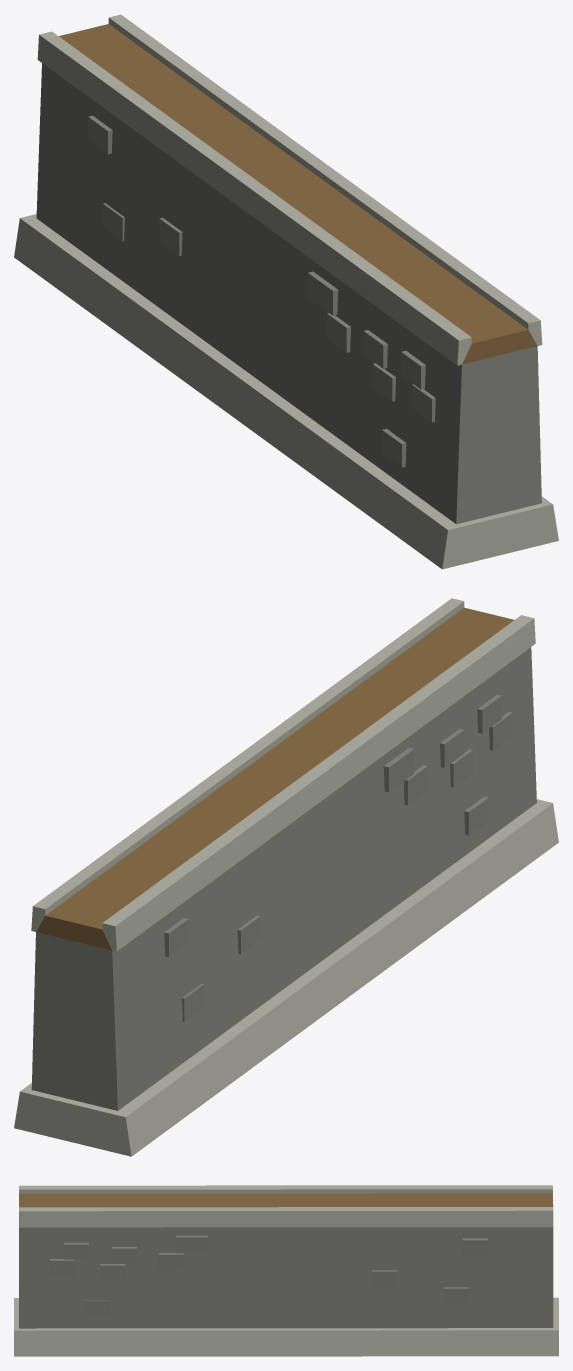
File: p6_lev2.glb
3 renders of one model, top to bottom at view 1: azimuth 30°, elevation 25°; view 2: azimuth 150°, elevation 25°; view 3: azimuth 270°, elevation 25°, orthographic. The views are drawn at different scales.
Visible parts, largest first — view 1: Wall_SecondAge.005; view 2: Wall_SecondAge.005; view 3: Wall_SecondAge.005.
Boxes of the visible parts, left/top/right/bottom form: Wall_SecondAge.005: left=14, top=14, right=558, bottom=569; Wall_SecondAge.005: left=14, top=598, right=558, bottom=1156; Wall_SecondAge.005: left=14, top=1185, right=558, bottom=1356.
Size of the model in its own units: 8.43 by 15.06 by 52.71.
